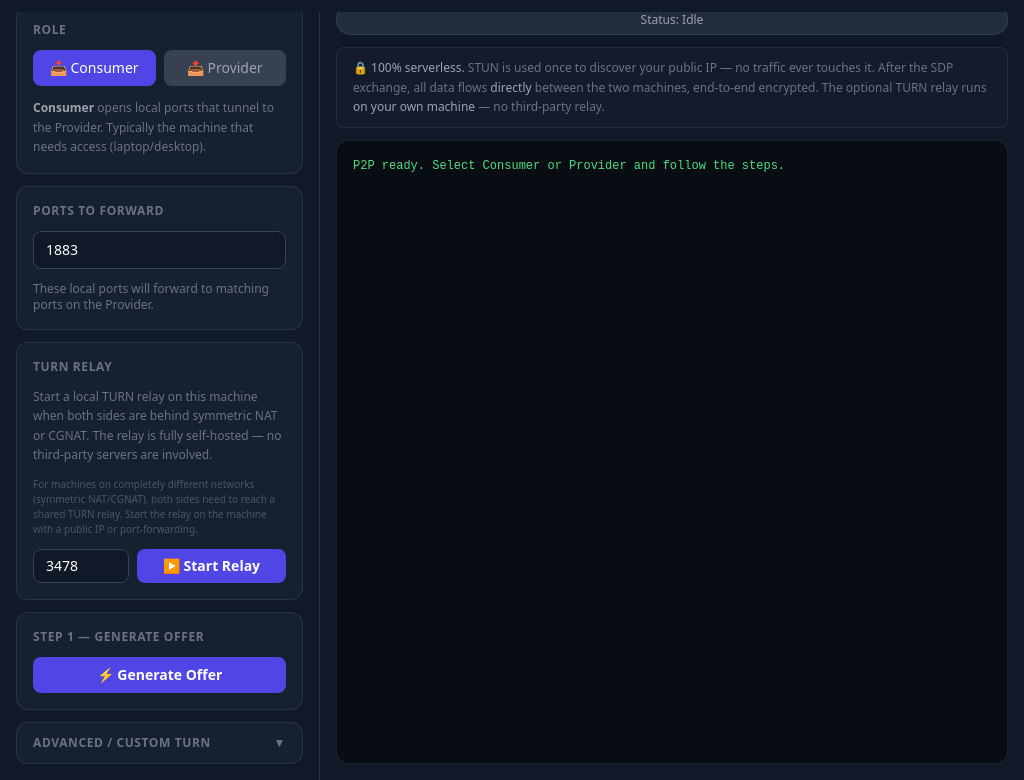
Test case: P2pTab genOffer error handling › blocks genOffer when port is out of range
This screenshot has width=1024, height=780.
(page scrolled)
Replace the text in the field with "99999" at [160, 250], box [33,230,286,268]
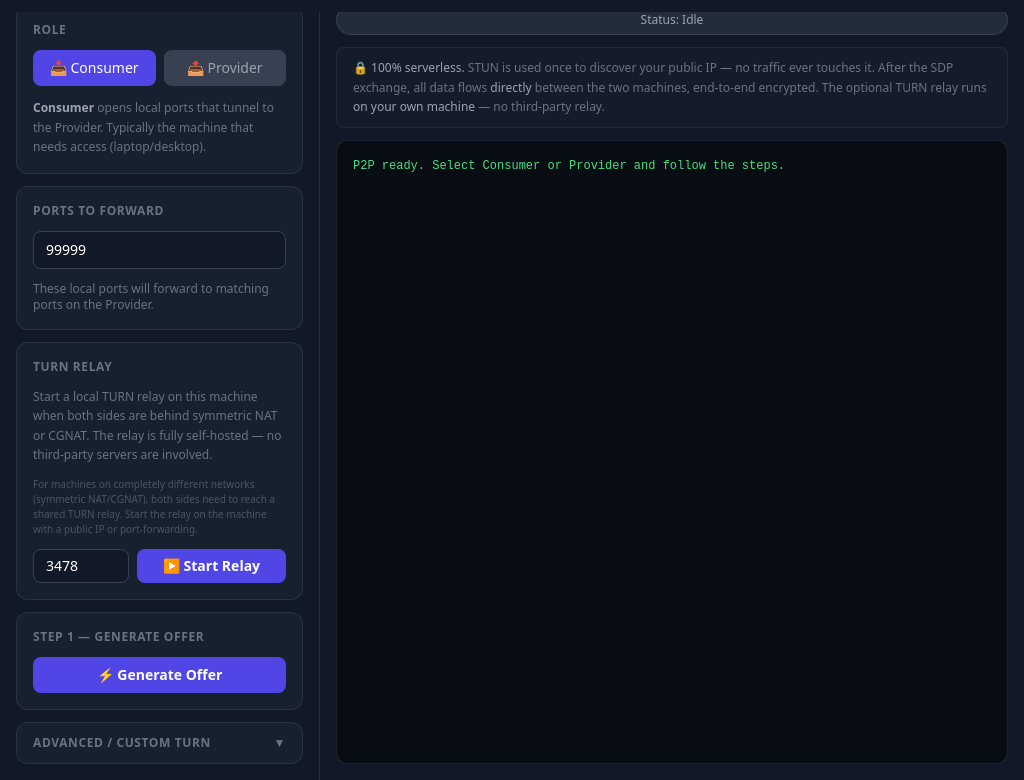
Click the button "⚡ Generate Offer" at [160, 674], box [33,656,286,692]
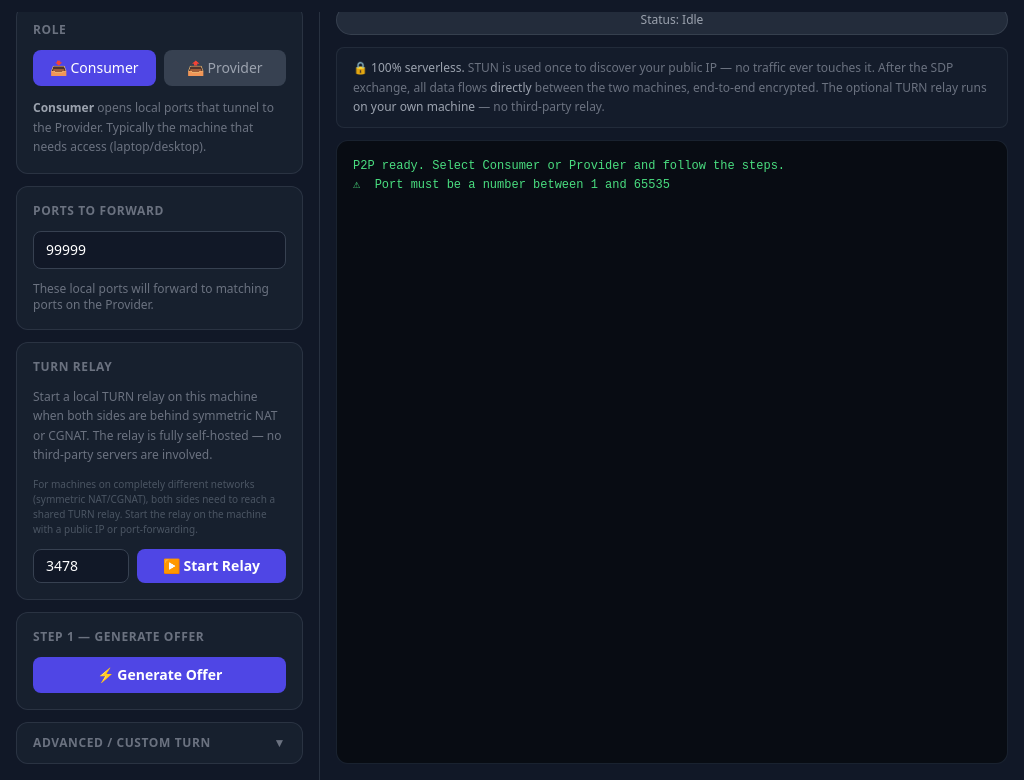
Result: the text "65535" is shown at [353,158,785,192]
